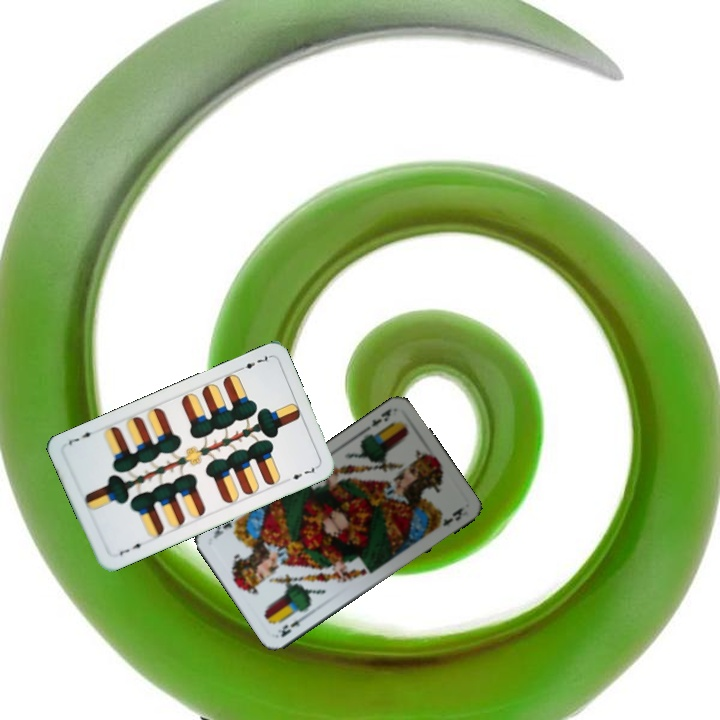E7: (234, 351, 272, 374), (115, 539, 148, 558)
EK: (273, 610, 309, 640), (362, 405, 394, 433)
